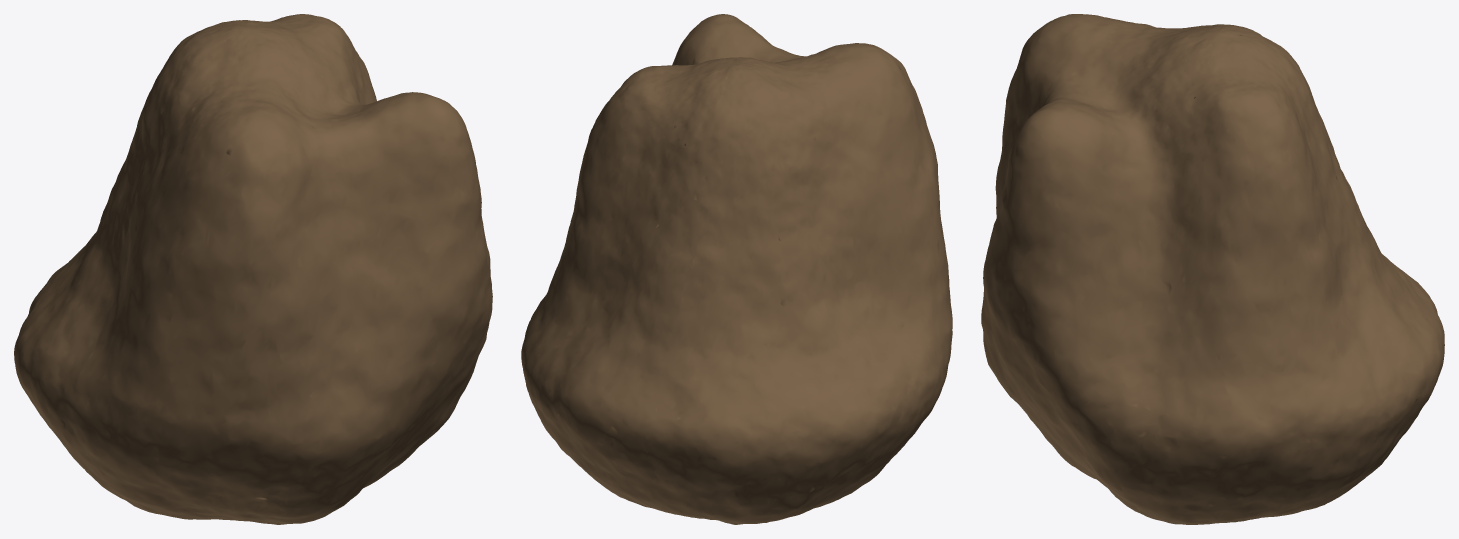
File: Basura.glb
3 views of the same model, side by side, from view 1: azimuth 30°, elevation 25°; view 2: azimuth 150°, elevation 25°; view 3: azimuth 270°, elevation 25° (orthographic). The views are drawn at different scales.
Parts seen in each view (by area): view 1: Basura; view 2: Basura; view 3: Basura.
Part boxes in pixels (left/top/right/bottom): Basura: left=14, top=14, right=492, bottom=524; Basura: left=521, top=14, right=952, bottom=524; Basura: left=981, top=14, right=1444, bottom=524.
Size of the model in its own units: 2.9 by 3.21 by 2.96.
